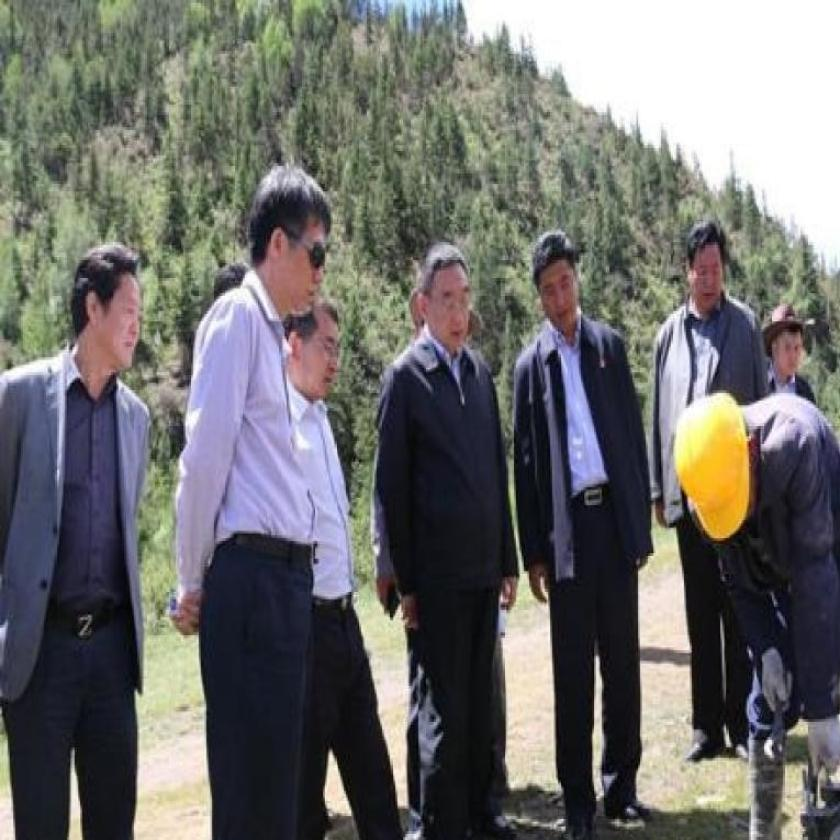Sin_casco: (247, 163, 338, 323), (70, 239, 148, 379), (282, 288, 348, 401), (419, 243, 477, 359), (529, 232, 581, 338), (760, 295, 816, 390), (686, 222, 727, 315)
